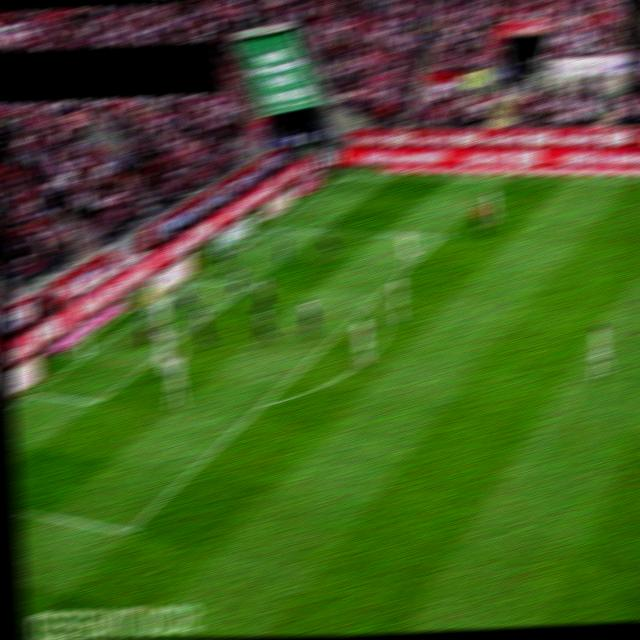bigarea_bottom_inner: (119, 527, 136, 537)
bigarea_top_inner: (434, 230, 452, 241)
bigarea_top_outter: (256, 225, 274, 235)
bottom_arc_area_intersection: (252, 401, 270, 411)
corner: (332, 171, 350, 182)
smallarea_bottom_inner: (87, 395, 106, 406)
smallarea_bottom_outter: (23, 388, 41, 399)
smallarea_top_inner: (241, 278, 260, 288)
smallarea_top_outter: (183, 275, 200, 286)
top_arc_area_intersection: (361, 299, 378, 309)
